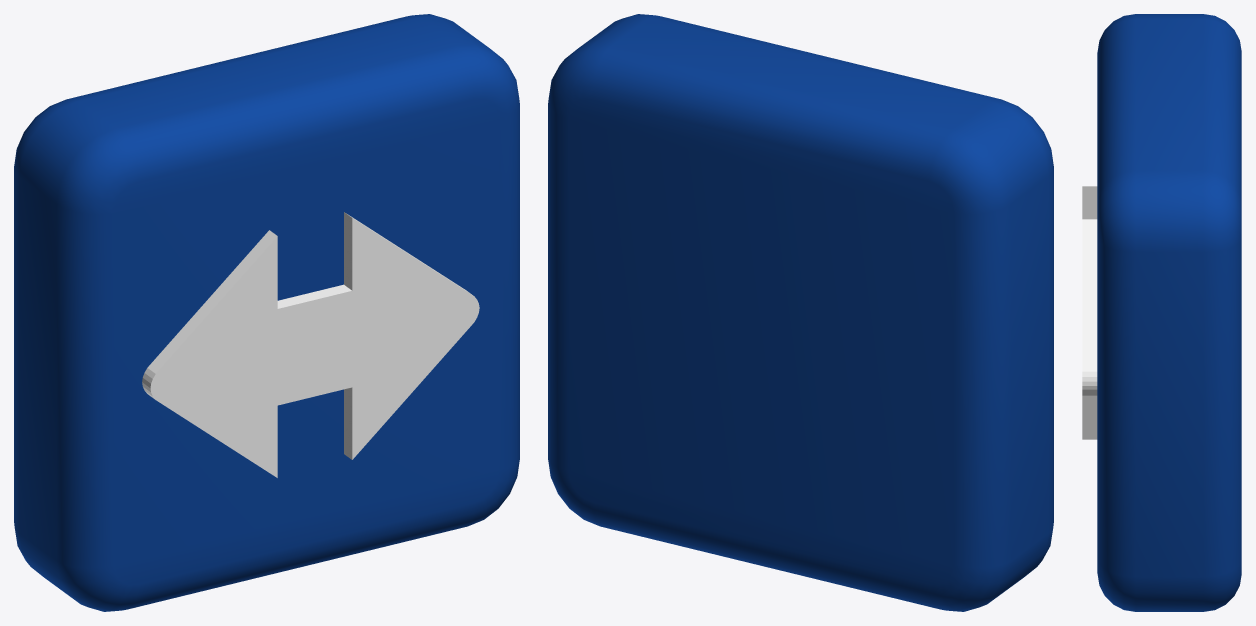
The model's file is left_right_arrow.gltf.
3 views of the same model, side by side, from view 1: azimuth 30°, elevation 25°; view 2: azimuth 150°, elevation 25°; view 3: azimuth 270°, elevation 25° (orthographic). The views are drawn at different scales.
Visible parts, largest first — view 1: Cube.6331; view 2: Cube.6331; view 3: Cube.6331.
Boxes of the visible parts, <box> form: Cube.6331: <box>14,14,519,611</box>; Cube.6331: <box>548,14,1053,611</box>; Cube.6331: <box>1082,14,1241,611</box>.
Size of the model in its own units: 2.2 by 2.2 by 0.73.
Materials: 1 (1 with a texture image).
